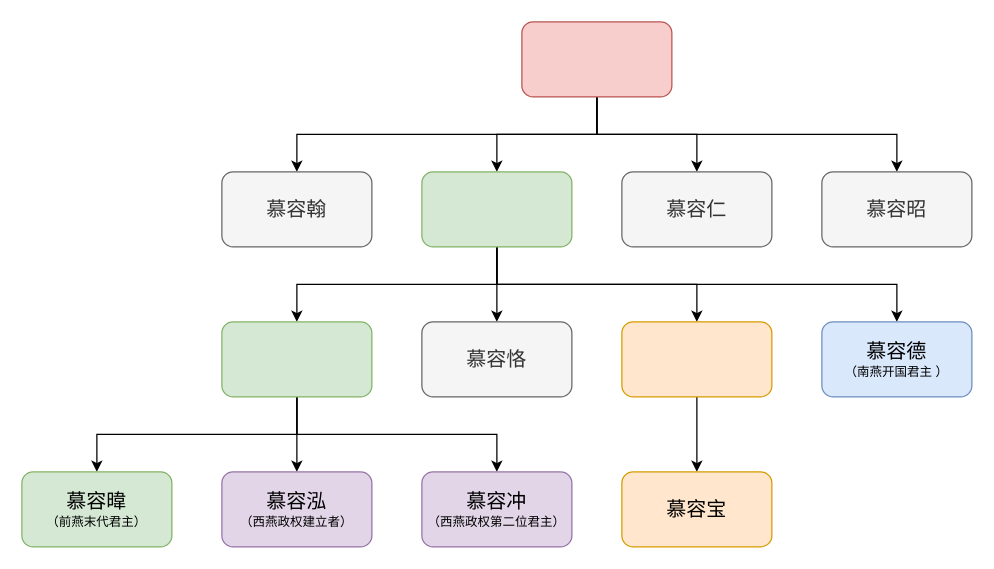
This 994x569 diagram has some shape labels left out. Each missing label, with the centre of its shape:
"慕容儁" goes at (296,359).
"慕容垂 （后燕开国君主）" goes at (696,359).
"慕容廆" goes at (596,59).
"慕容皝 （前燕开国君主 ）" goes at (496,209).
